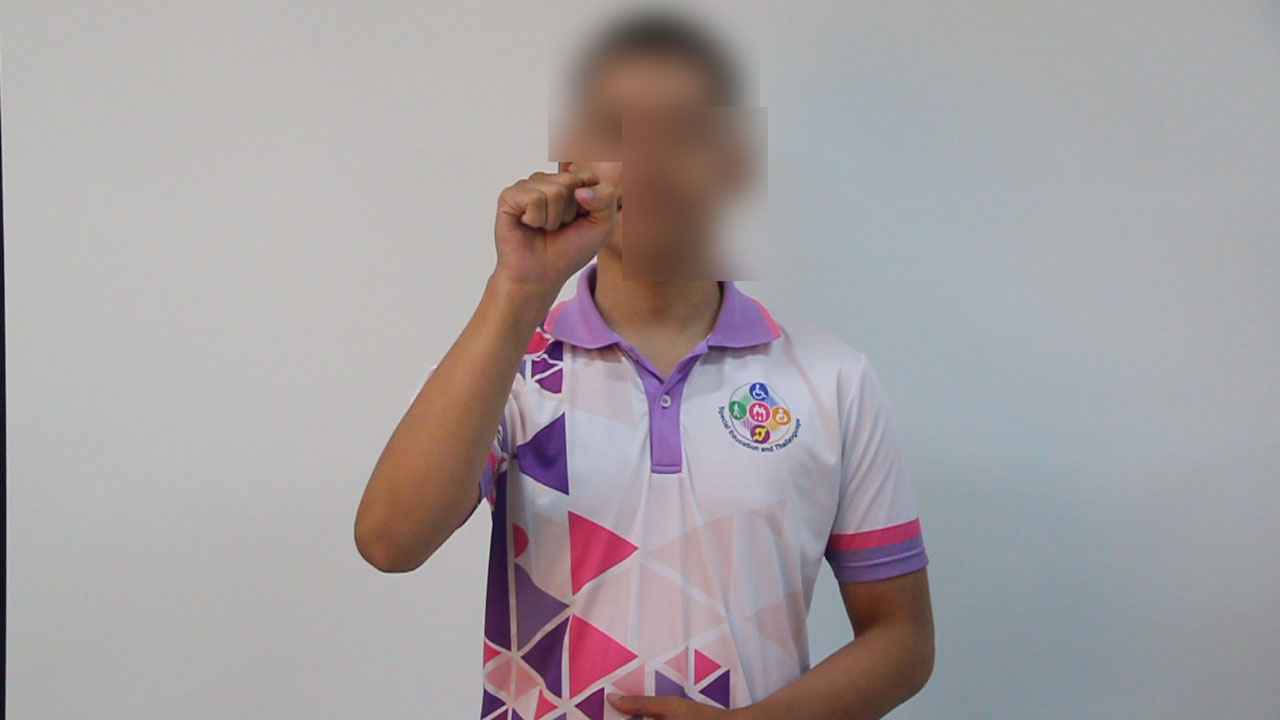sor: (479, 153, 623, 308)
